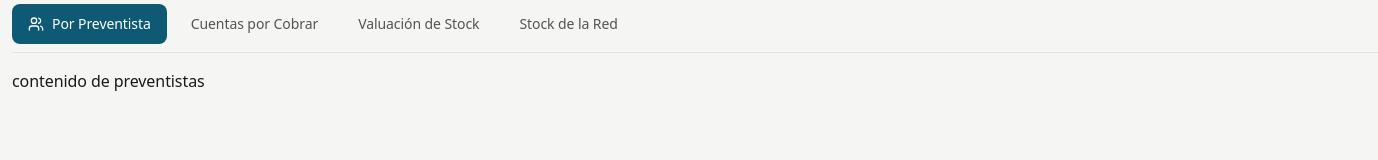
Test: Tabs — es controlado › cuando el padre cambia value, la pestaña activa cambia
Click the tab "Valuación de Stock" at {"x": 419, "y": 24}, box x1=342 y1=4 x2=495 y2=44
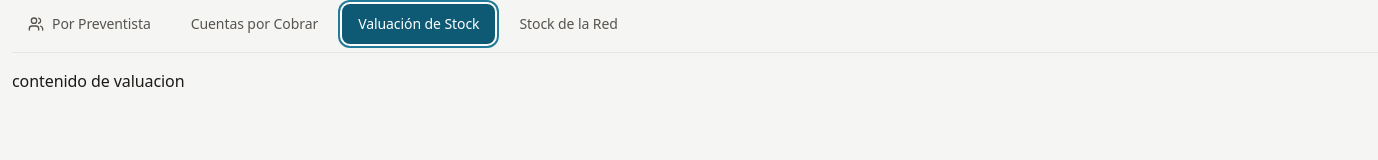
Now the panel reads "contenido de valuacion", box x1=12 y1=70 x2=184 y2=92
